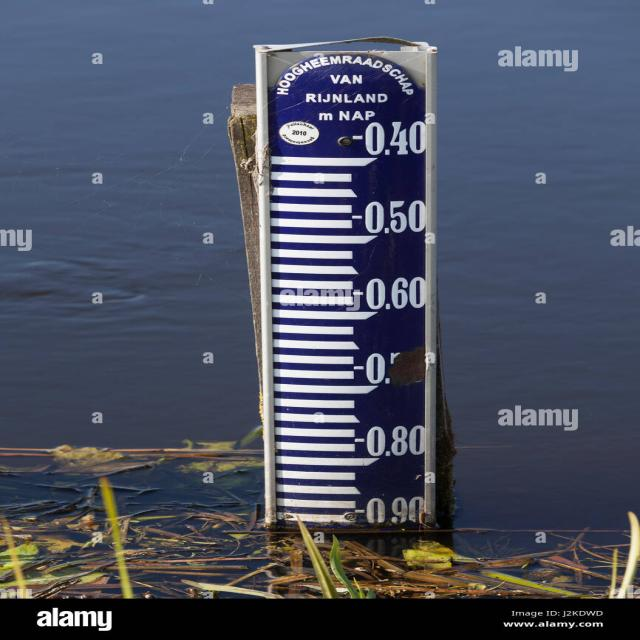ruler: (243, 34, 453, 539)
value: (347, 346, 434, 392), (343, 195, 431, 240), (349, 269, 432, 315), (344, 116, 430, 160), (350, 418, 431, 461), (345, 490, 433, 529)
